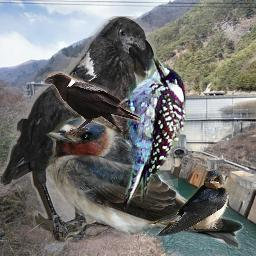Crow: (1, 16, 157, 243), (43, 71, 141, 139)
Swallow: (43, 116, 245, 249), (147, 170, 229, 236)
Woodpecker: (100, 50, 197, 218)
